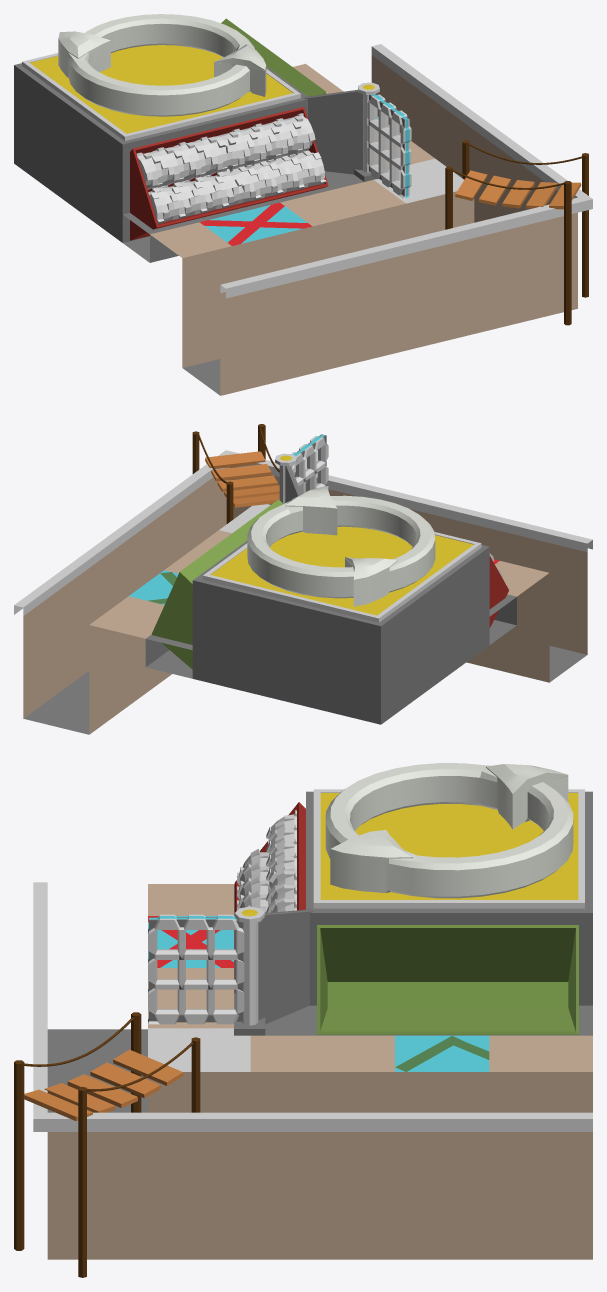
The model's file is dropper.fbx.
3 views of the same model, one above another, from view 1: azimuth 30°, elevation 25°; view 2: azimuth 150°, elevation 25°; view 3: azimuth 270°, elevation 25° (orthographic). The views are drawn at different scales.
Parts seen in each view (by area): view 1: DropperFloor, DropperBody, ButtonArrows, Grindr, Grindr1, AddedCarcasa, VentIncorrect, Door, BridgeMasts, Bridge Planks, VentCorrect; view 2: DropperFloor, DropperBody, ButtonArrows, VentCorrect, Bridge Planks, Door, AddedCarcasa, BridgeMasts, VentIncorrect; view 3: DropperFloor, VentCorrect, DropperBody, ButtonArrows, AddedCarcasa, Door, BridgeMasts, Bridge Planks, Grindr, Grindr1, VentIncorrect.
Part boxes in pixels (box(x1,y1,x2,y2)): DropperFloor: box(150, 44, 592, 395); DropperBody: box(14, 45, 378, 262); ButtonArrows: box(58, 14, 266, 116); Grindr: box(136, 113, 315, 189); Grindr1: box(148, 150, 326, 224); AddedCarcasa: box(123, 82, 379, 234); VentIncorrect: box(130, 107, 328, 240); Door: box(367, 94, 411, 198); BridgeMasts: box(445, 140, 588, 325); Bridge Planks: box(455, 170, 581, 209); VentCorrect: box(221, 18, 326, 96); DropperFloor: box(14, 450, 592, 734); DropperBody: box(145, 526, 516, 724); ButtonArrows: box(247, 486, 435, 606); VentCorrect: box(151, 499, 283, 669); Bridge Planks: box(205, 451, 279, 507); Door: box(291, 434, 328, 493); AddedCarcasa: box(146, 453, 516, 650); BridgeMasts: box(192, 424, 295, 523); VentIncorrect: box(489, 556, 508, 627); DropperFloor: box(33, 882, 592, 1259); VentCorrect: box(317, 925, 578, 1034); DropperBody: box(148, 789, 592, 1071); ButtonArrows: box(325, 763, 573, 898); AddedCarcasa: box(234, 884, 592, 1035); Door: box(148, 914, 244, 1024); BridgeMasts: box(14, 1012, 200, 1277); Bridge Planks: box(23, 1049, 183, 1121); Grindr: box(266, 810, 296, 912); Grindr1: box(237, 849, 268, 912); VentIncorrect: box(234, 802, 305, 993).
Bounding box in the file's own units: 4055 × 2219 × 4034.
